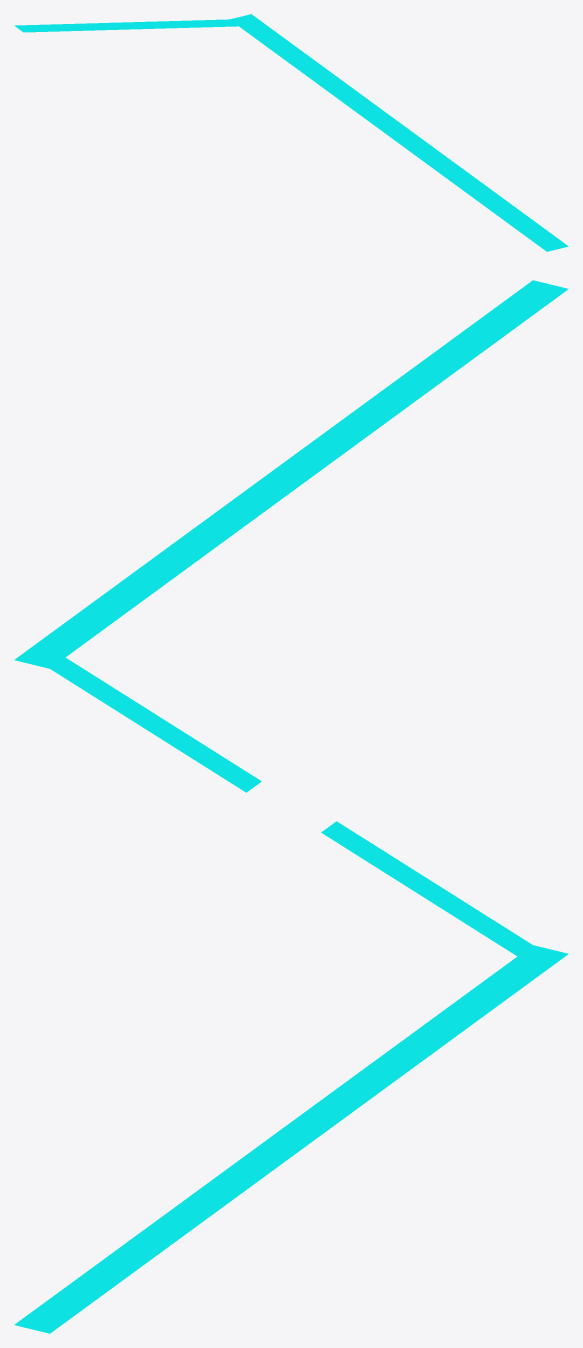
File: 023shemi00750125kts.dae
The picture shows the model from 3 angles, top to bottom: view 1: azimuth 30°, elevation 25°; view 2: azimuth 150°, elevation 25°; view 3: azimuth 330°, elevation 25°; orthographic projection. The views are drawn at different scales.
Visible parts, largest first — view 1: Plane; view 2: Plane; view 3: Plane.
Part boxes in pixels (bbox=[...]): Plane: bbox=[14, 14, 568, 251]; Plane: bbox=[14, 280, 568, 792]; Plane: bbox=[14, 821, 568, 1333].
Size of the model in its own units: 34.51 by 115 by 0.
